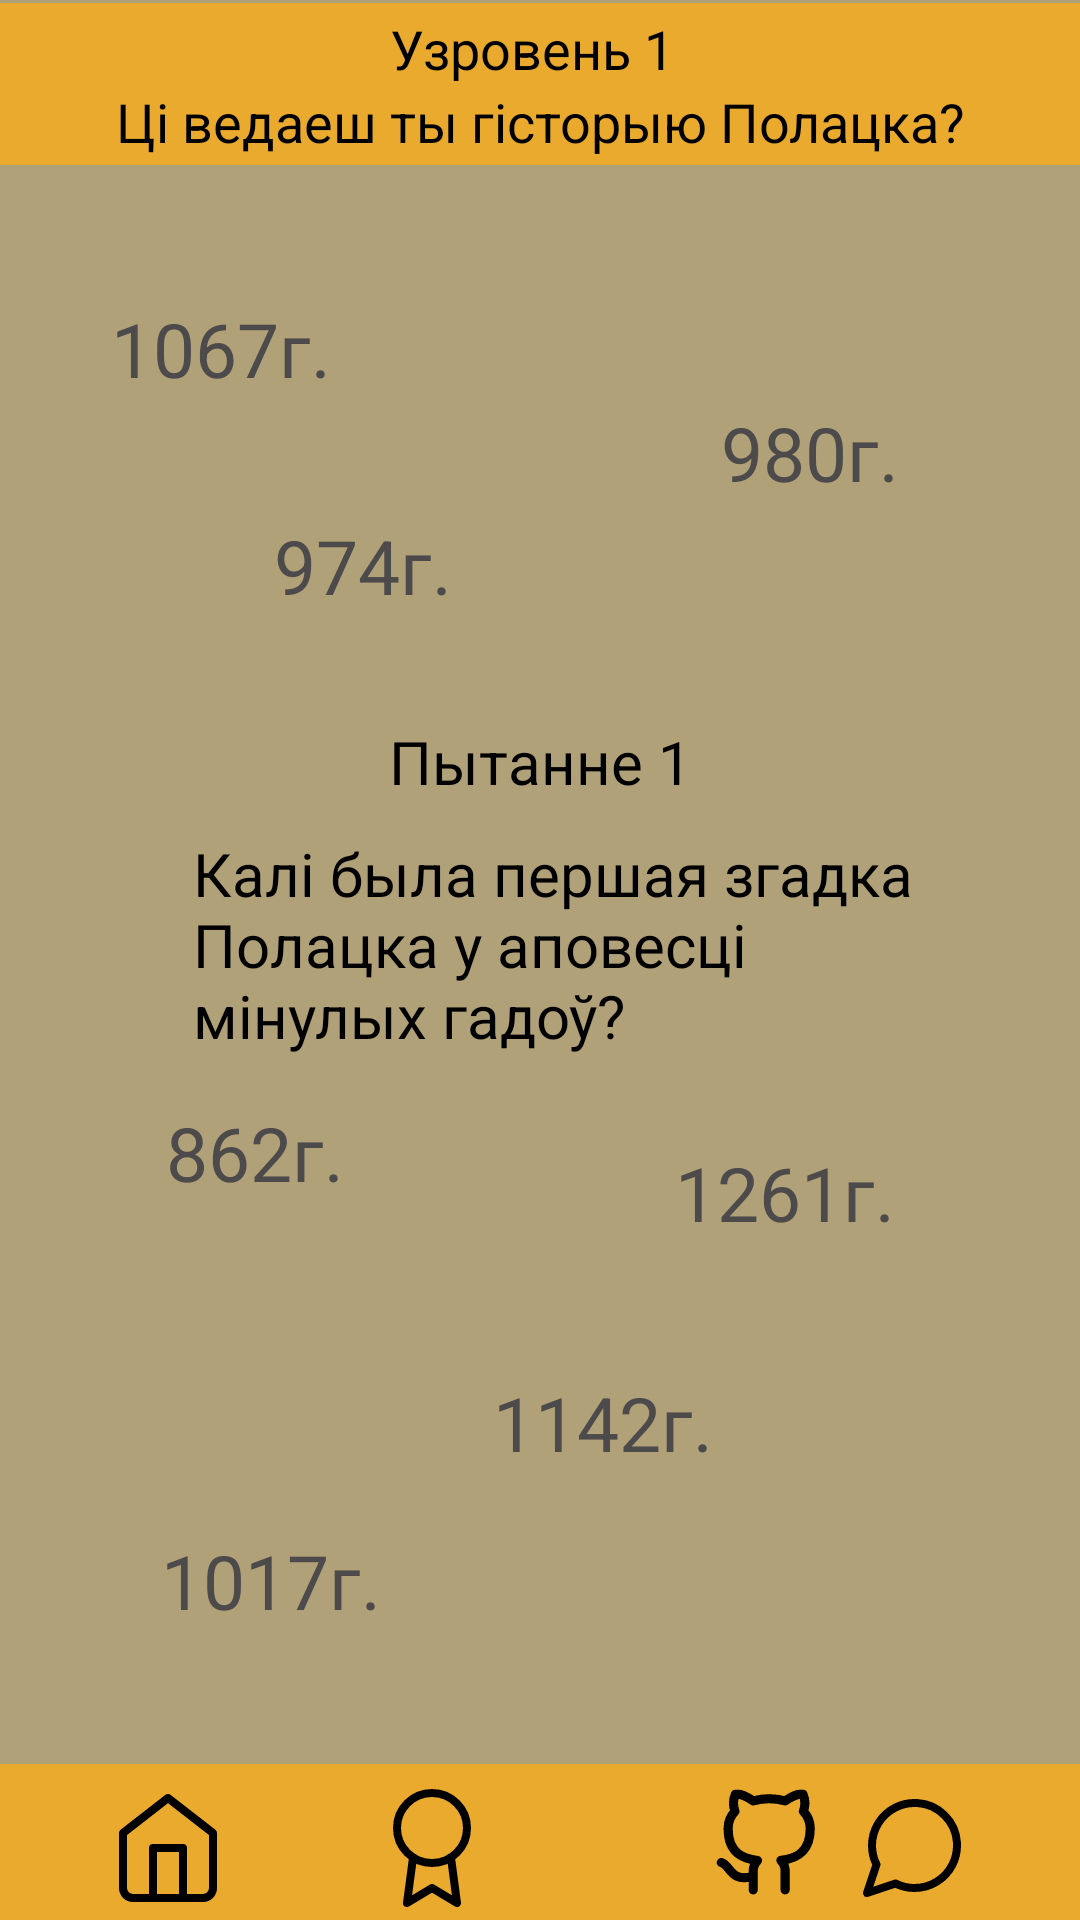

Point at icon controls on the screen. Image size 1080px×1920px, points as (x=x, y=y).
award: (x=432, y=1848)
home: (x=168, y=1848)
message circle: (x=912, y=1848)
